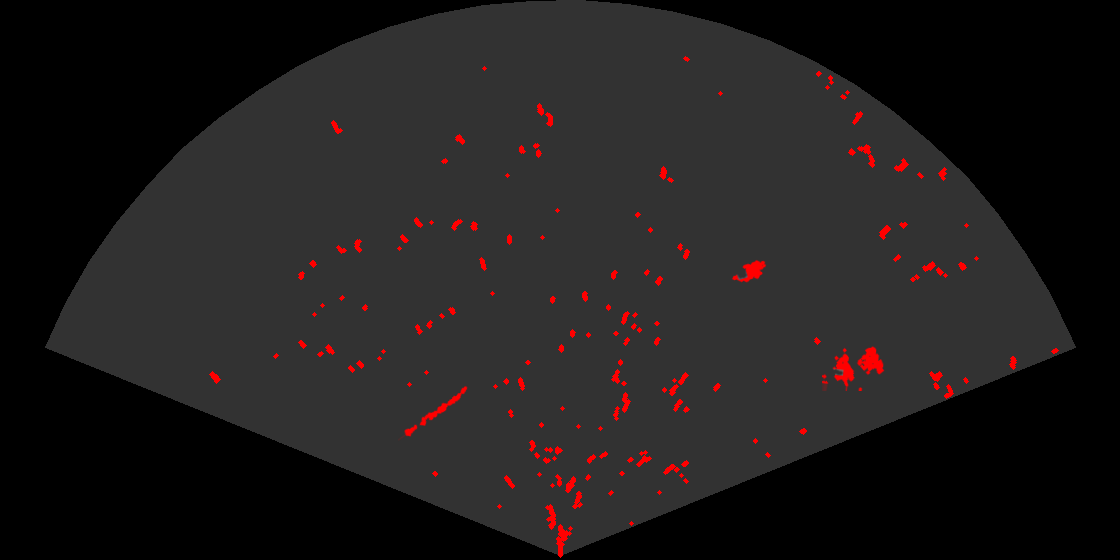AUV: (730, 258, 768, 284)
cage: (822, 345, 886, 391)
chain: (398, 384, 469, 442)
